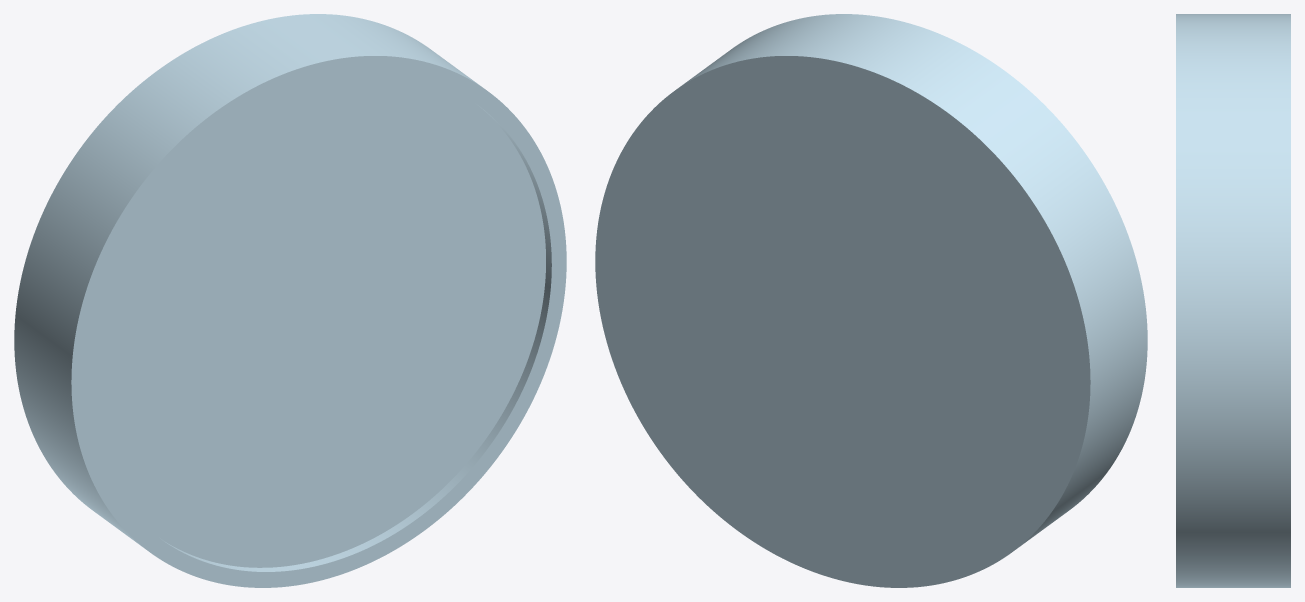
File: Assembly 1 - Part 1.gltf
3 views of the same model, side by side, from view 1: azimuth 30°, elevation 25°; view 2: azimuth 150°, elevation 25°; view 3: azimuth 270°, elevation 25° (orthographic).
Parts seen in each view (by area): view 1: Part 1; view 2: Part 1; view 3: Part 1.
Boxes of the visible parts, bbox=[...] form: Part 1: bbox=[14, 14, 566, 587]; Part 1: bbox=[595, 14, 1147, 587]; Part 1: bbox=[1176, 14, 1290, 587].
Bounding box in the file's own units: 1 × 1 × 0.2.
